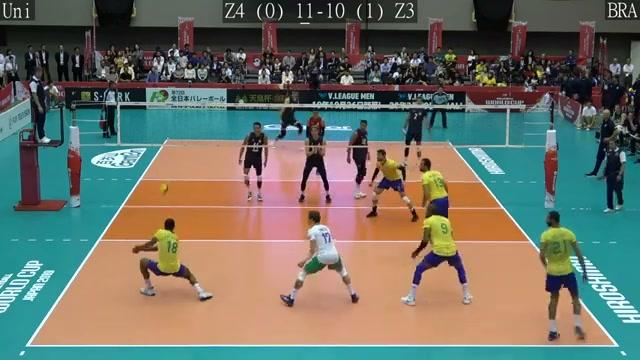ball: (154, 182, 173, 198)
